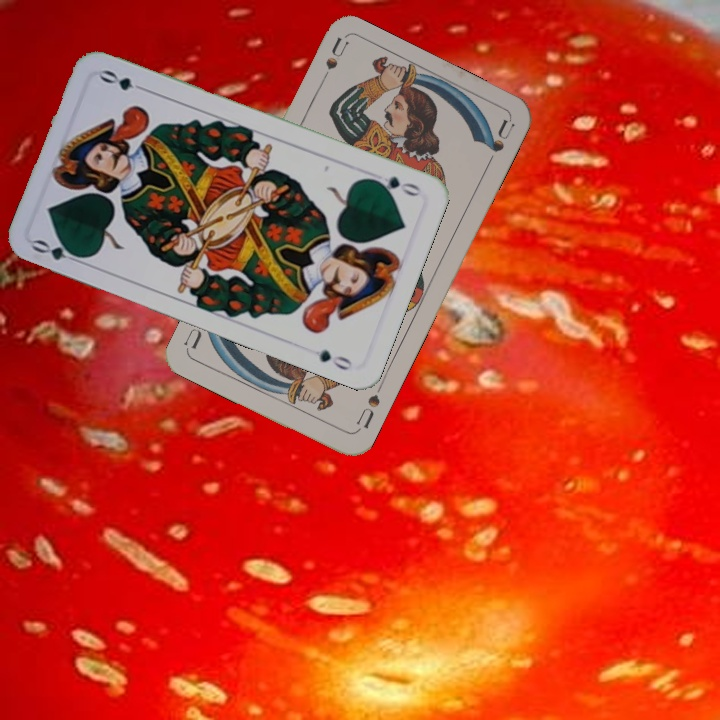GO: (28, 235, 88, 267), (366, 172, 425, 199)
SU: (314, 35, 350, 92), (352, 380, 386, 435)
